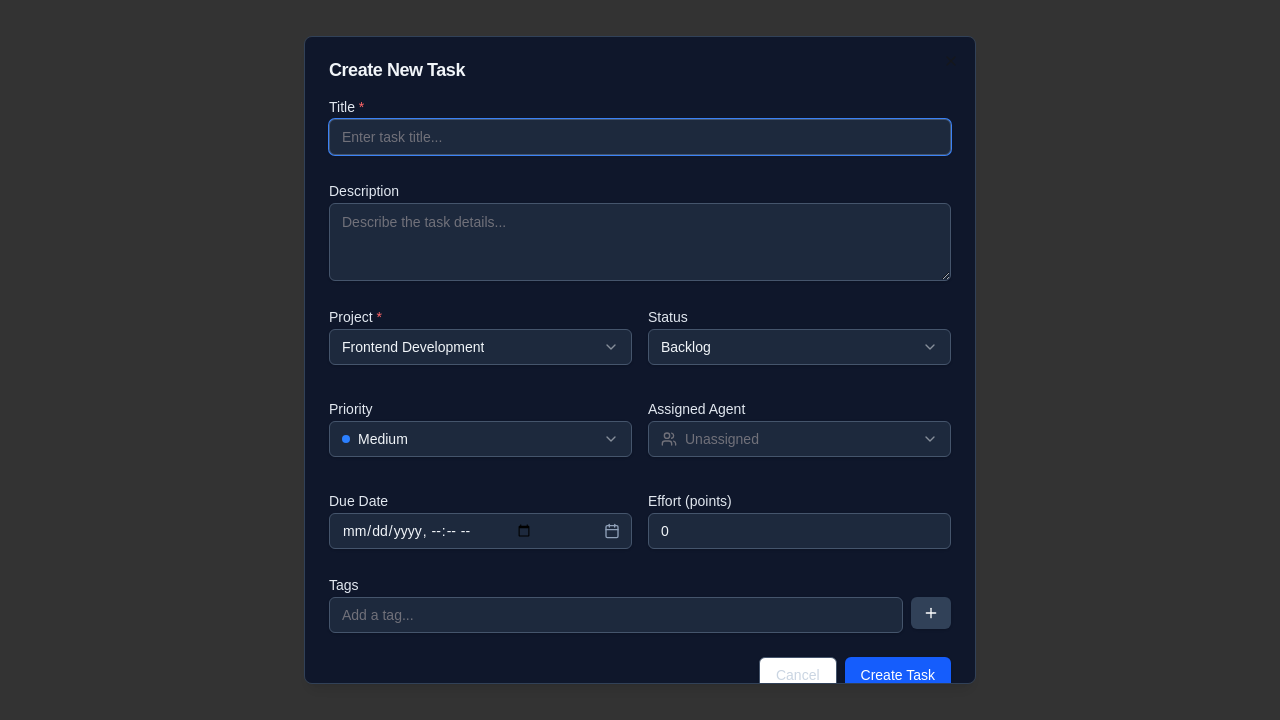
Test: TaskFormDialog Component › Form interactions › adds tag by pressing Enter key
Type "backend" into the field with placeholder "Add a tag..." at (616, 615), box [329,597,903,633]
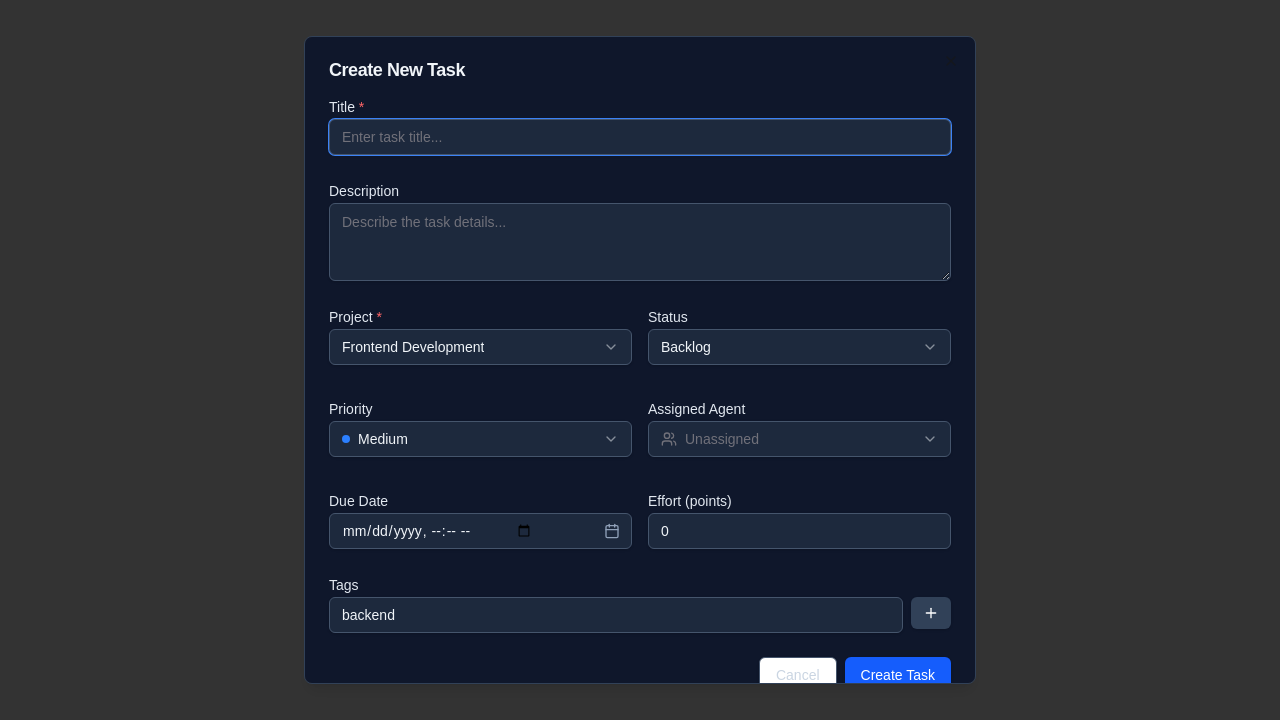
Press Enter in the field with placeholder "Add a tag...", box [329,597,903,633]
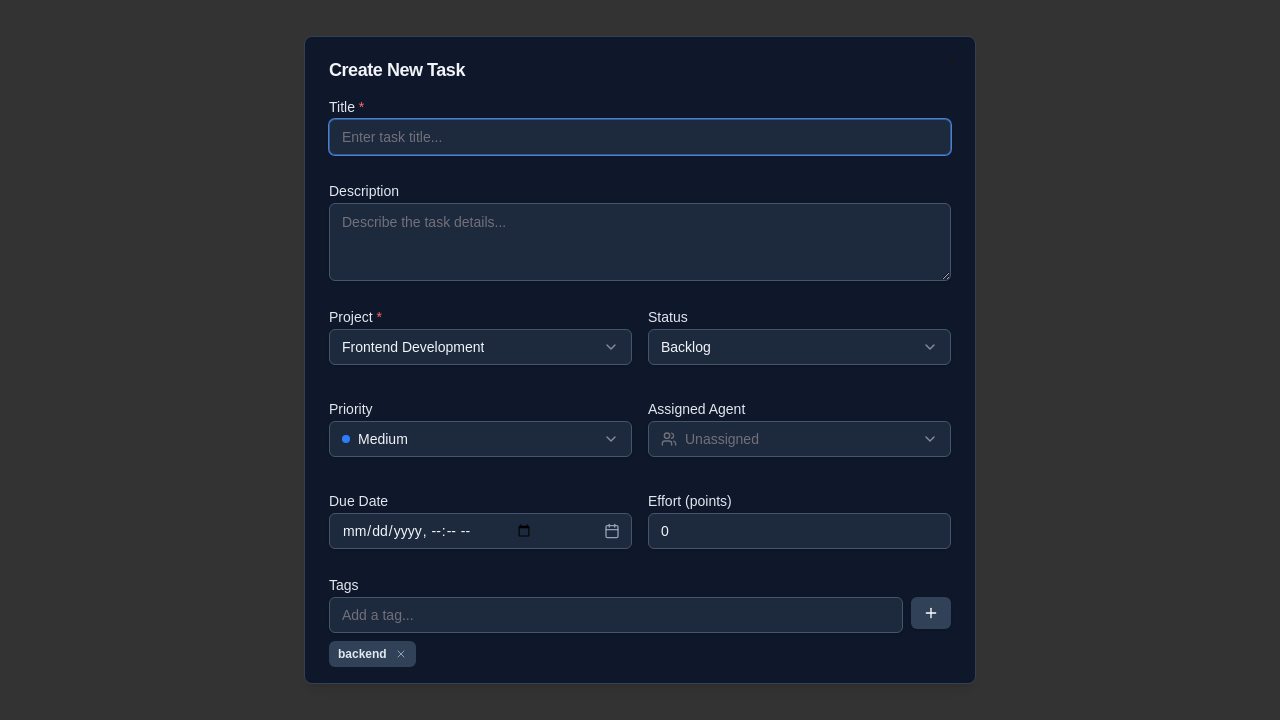
Result: the text "backend" is shown at [329,641,416,667]
Result: the field with placeholder "Add a tag..." is empty at [329,597,903,633]
